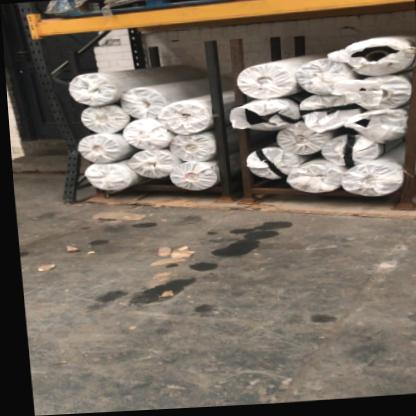vertical_damage: (41, 110, 97, 202)
